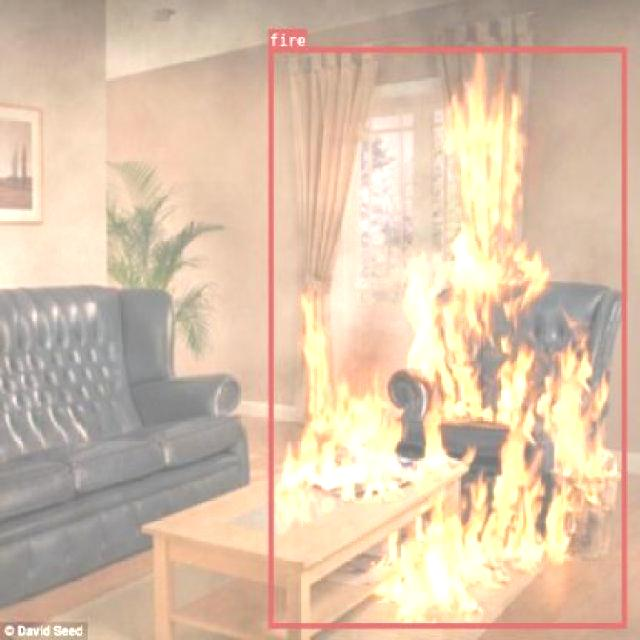fire: (268, 47, 626, 627)
